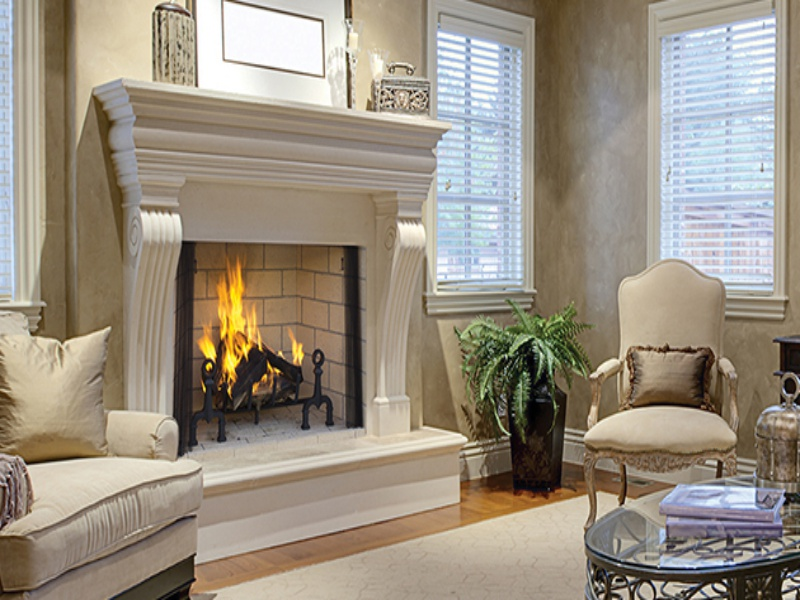fire: (202, 254, 261, 383), (289, 325, 303, 364)
